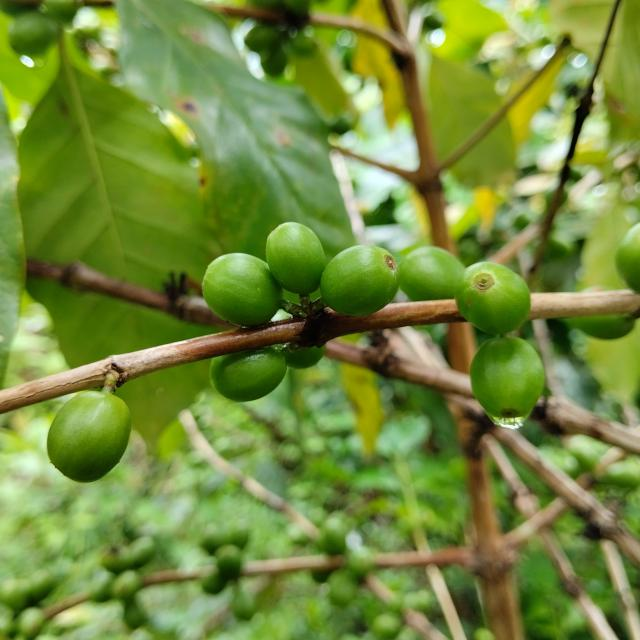green: (46, 391, 130, 483), (471, 337, 546, 419), (202, 253, 283, 326), (320, 245, 399, 316), (455, 261, 531, 334), (266, 222, 326, 295), (210, 347, 287, 402), (399, 246, 465, 301), (616, 222, 640, 293), (285, 345, 326, 369)
